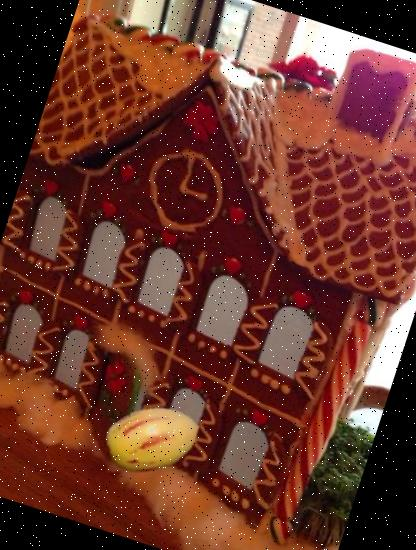Pepino: (92, 378, 213, 500)
